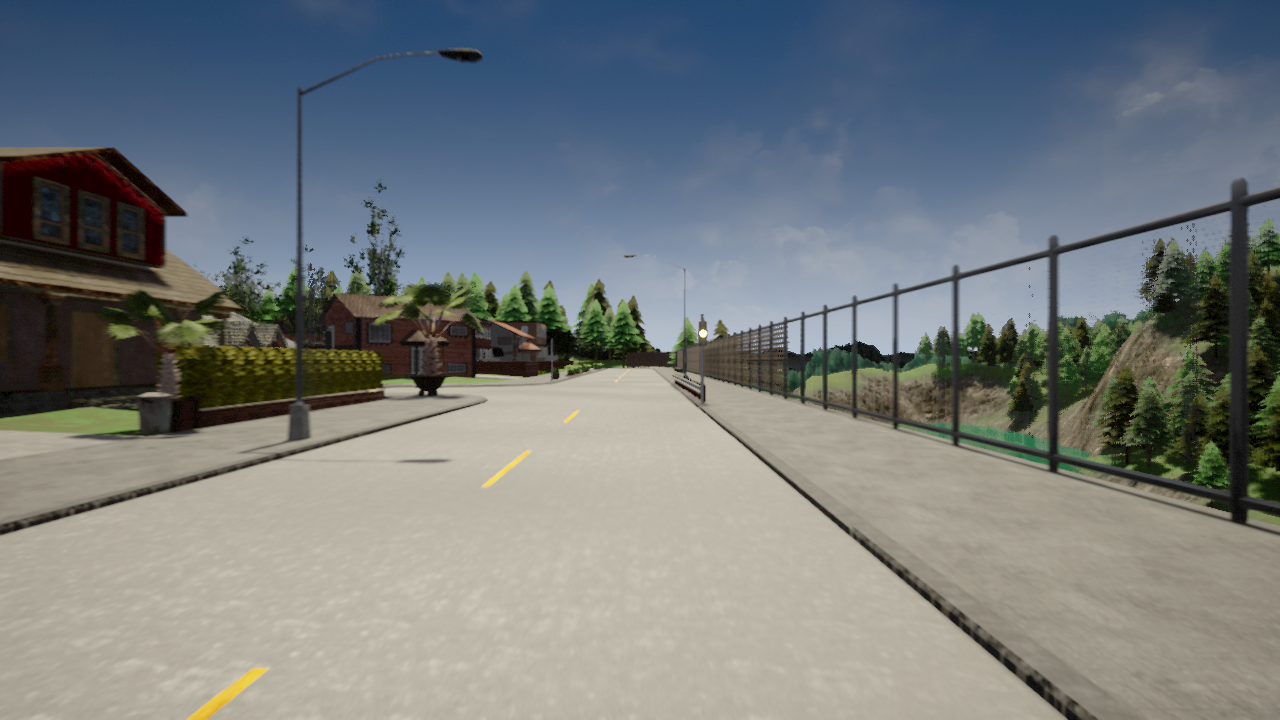yellow: (697, 320, 708, 344)
